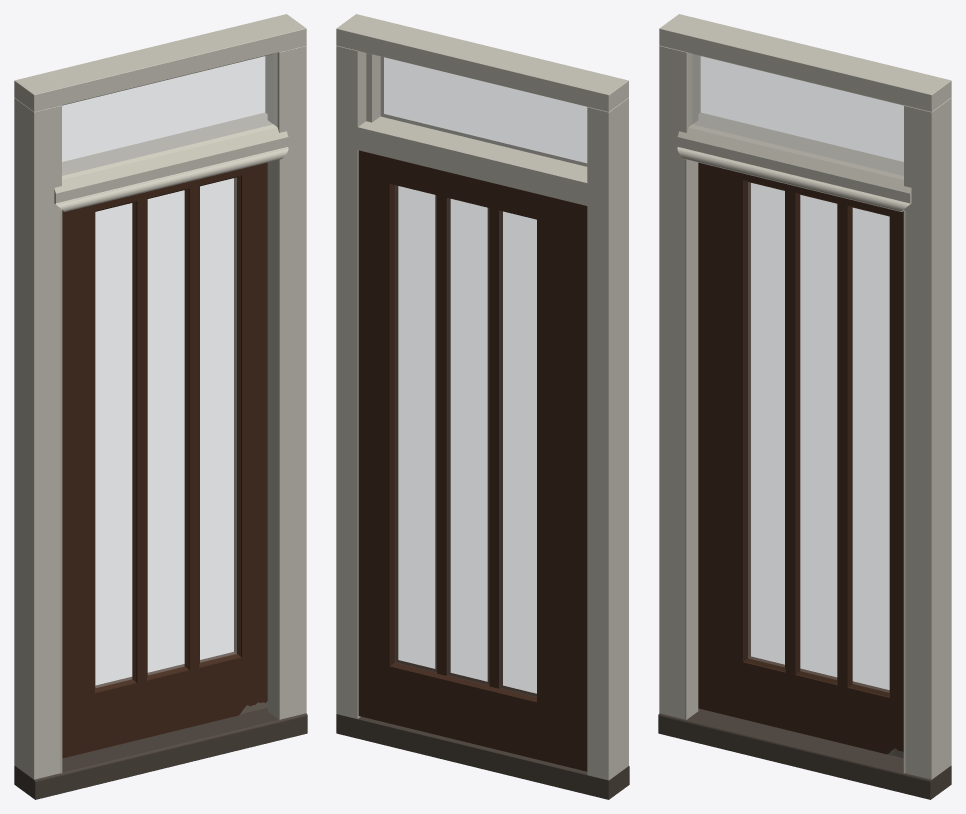
Rendered from door_F4.glb.
The picture shows the model from 3 angles, left to right: view 1: azimuth 30°, elevation 25°; view 2: azimuth 150°, elevation 25°; view 3: azimuth 330°, elevation 25°; orthographic projection.
Parts seen in each view (by area): view 1: leaf_frame, frame_jamb_L, frame_jamb_R, glass_light2, glass_light3, glass_light1, glass_fanlight, frame_transom, frame_head, stone_threshold, bead_light1, bead_light2 (+4 smaller); view 2: leaf_frame, frame_jamb_L, glass_light2, glass_light3, glass_light1, frame_jamb_R, glass_fanlight, frame_head, frame_transom, stone_threshold, bead_light2, bead_light3 (+2 smaller); view 3: leaf_frame, frame_jamb_R, frame_jamb_L, glass_light1, glass_light2, glass_light3, glass_fanlight, frame_transom, frame_head, stone_threshold, bead_light2, bead_light3 (+4 smaller).
Part boxes in pixels (x1,y1,x2,y2): leaf_frame: [62, 162, 267, 758]; frame_jamb_L: [14, 97, 61, 779]; frame_jamb_R: [265, 45, 306, 719]; glass_light2: [148, 190, 184, 675]; glass_light3: [200, 177, 236, 662]; glass_light1: [95, 203, 131, 687]; glass_fanlight: [62, 54, 273, 175]; frame_transom: [54, 112, 288, 211]; frame_head: [14, 14, 306, 111]; stone_threshold: [14, 708, 307, 799]; bead_light1: [95, 201, 136, 692]; bead_light2: [147, 188, 188, 679]; leaf_frame: [358, 150, 587, 771]; frame_jamb_L: [587, 98, 628, 780]; glass_light2: [447, 198, 488, 685]; glass_light3: [395, 185, 436, 672]; glass_light1: [500, 211, 536, 696]; frame_jamb_R: [336, 45, 380, 718]; glass_fanlight: [381, 57, 586, 166]; frame_head: [336, 14, 628, 111]; frame_transom: [357, 116, 587, 205]; stone_threshold: [336, 714, 629, 799]; bead_light2: [447, 198, 489, 684]; bead_light3: [395, 185, 436, 672]; leaf_frame: [698, 162, 903, 754]; frame_jamb_R: [904, 97, 951, 779]; frame_jamb_L: [659, 45, 700, 719]; glass_light1: [748, 182, 784, 666]; glass_light2: [800, 195, 836, 679]; glass_light3: [853, 208, 889, 692]; glass_fanlight: [692, 54, 903, 175]; frame_transom: [677, 112, 911, 211]; frame_head: [659, 14, 951, 111]; stone_threshold: [658, 708, 951, 799]; bead_light2: [796, 193, 837, 684]; bead_light3: [848, 206, 889, 696].
Size of the model in its own units: 1 by 2.47 by 0.149.
